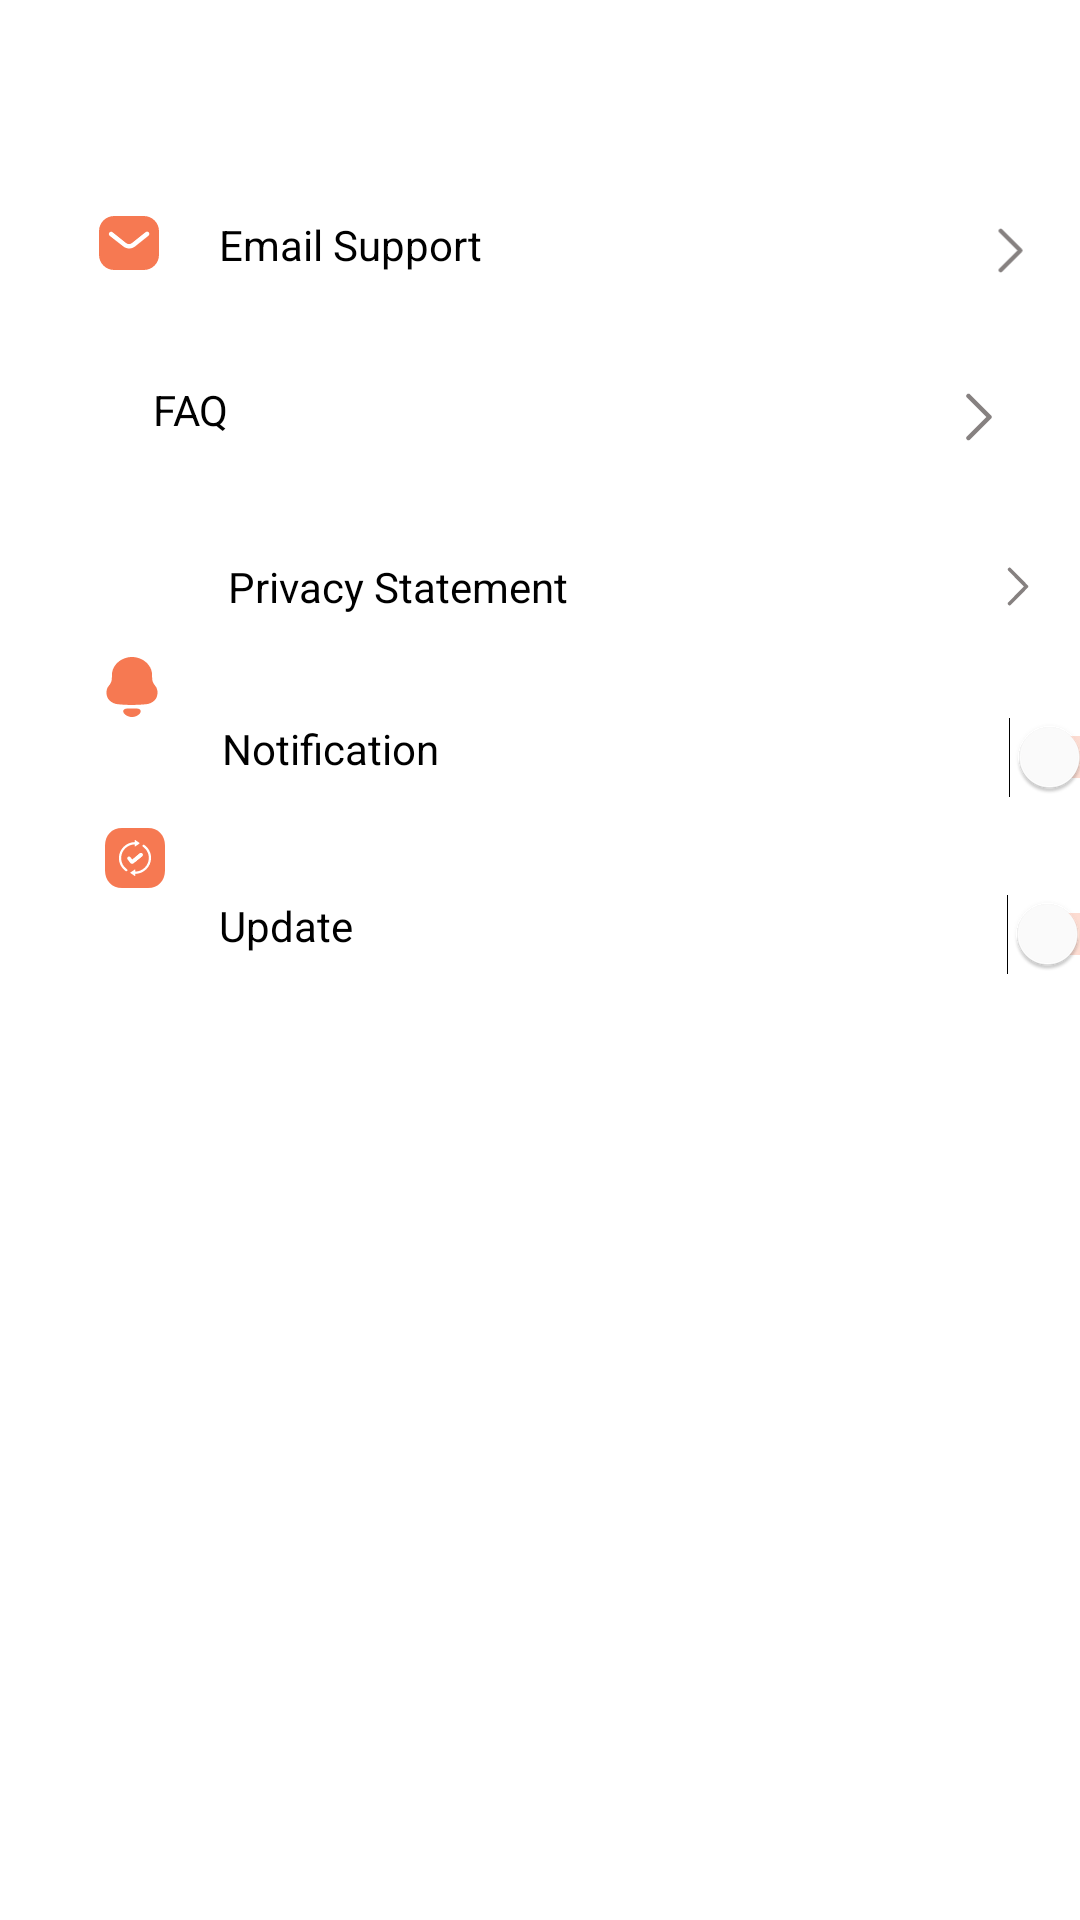

Locate icon controls on the screen. Image size 1080 × 1920, boxes as (x1, y1, x2, y2).
right arrow: (998, 228, 1023, 273), (966, 393, 992, 441), (1007, 567, 1029, 606)
